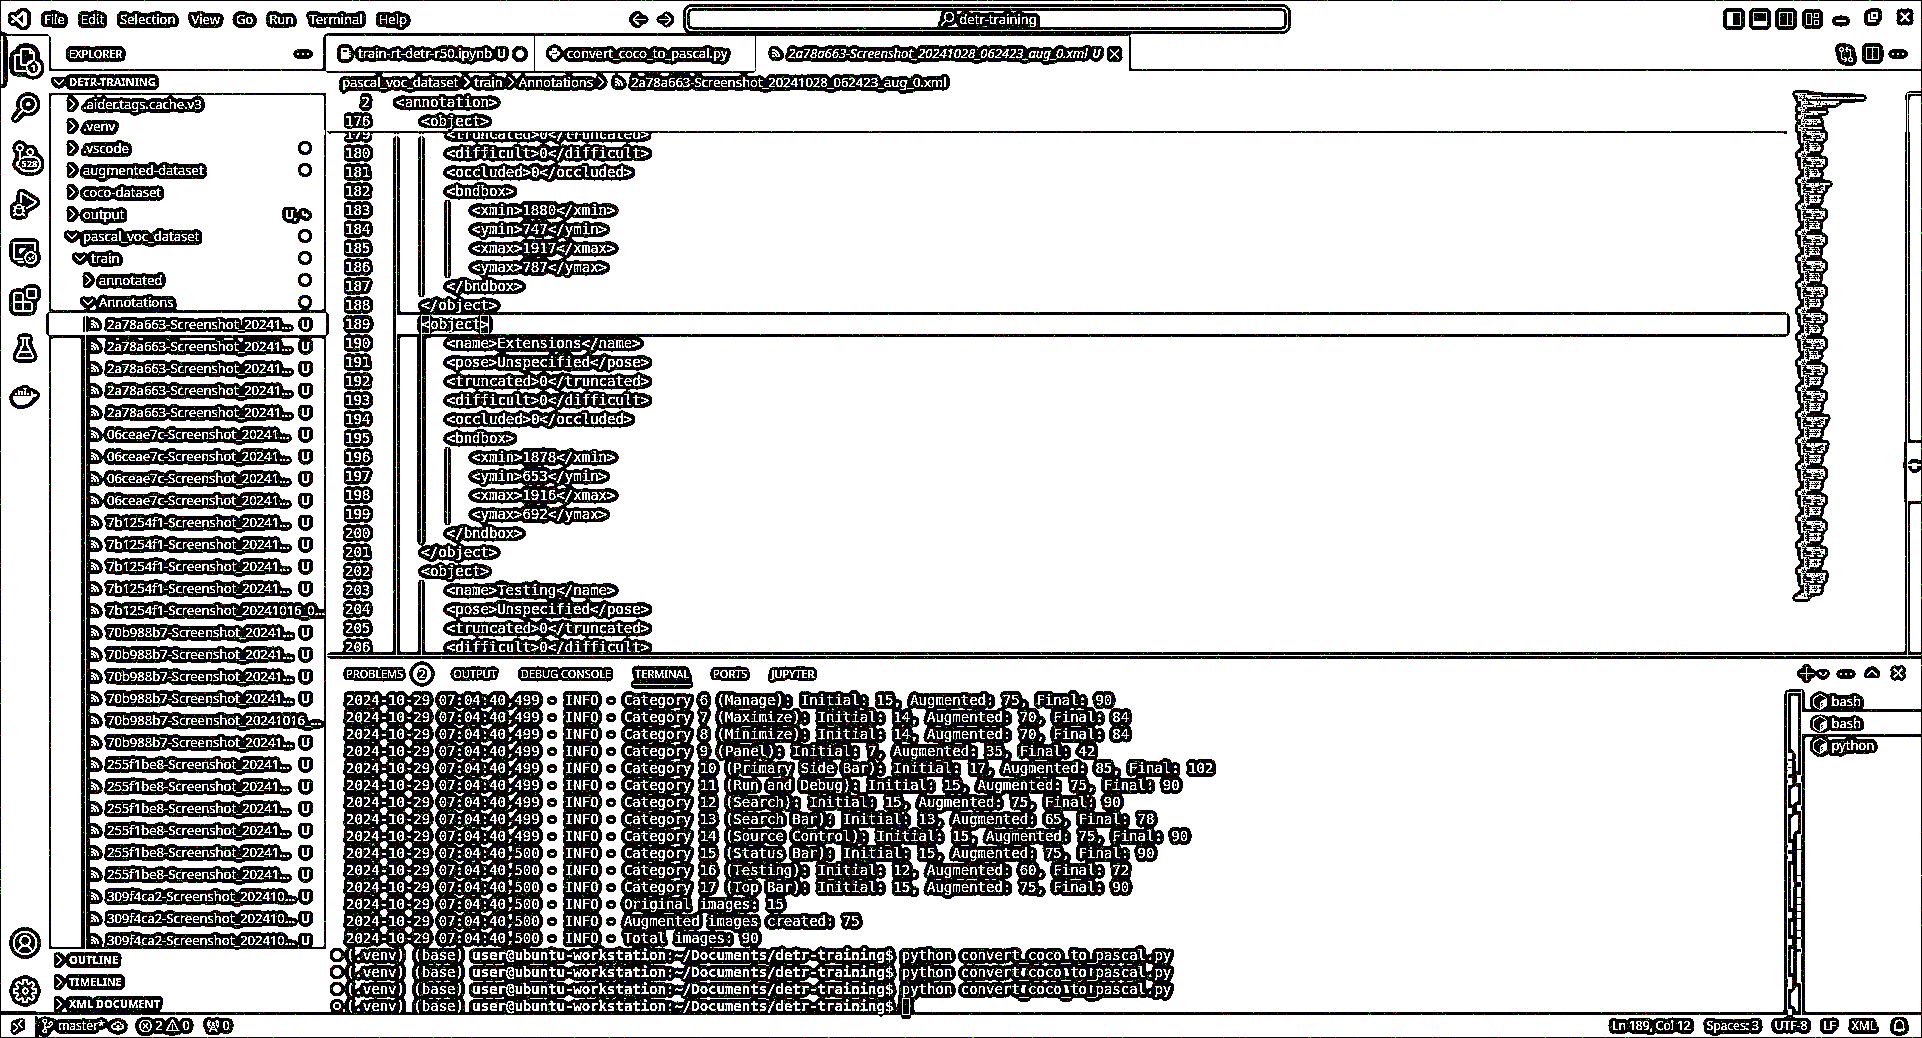Accounts: (4, 929, 38, 959)
Activity Bar: (1, 40, 43, 1015)
Close: (1891, 3, 1919, 27)
Editor: (328, 40, 1919, 649)
Explorer: (10, 40, 43, 82)
Extensions: (6, 284, 38, 314)
Manage: (6, 973, 40, 1009)
Maximize: (1862, 3, 1884, 28)
Minimize: (1829, 4, 1854, 29)
Panel: (325, 655, 1919, 1015)
Primary Side Bar: (49, 40, 325, 1014)
Run and Debug: (6, 188, 40, 221)
Search: (6, 87, 41, 123)
Search Bar: (682, 4, 1289, 35)
Source Control: (9, 136, 46, 176)
Status Bar: (1, 1015, 1919, 1035)
Testing: (6, 331, 37, 367)
Top Bar: (1, 1, 1919, 35)
